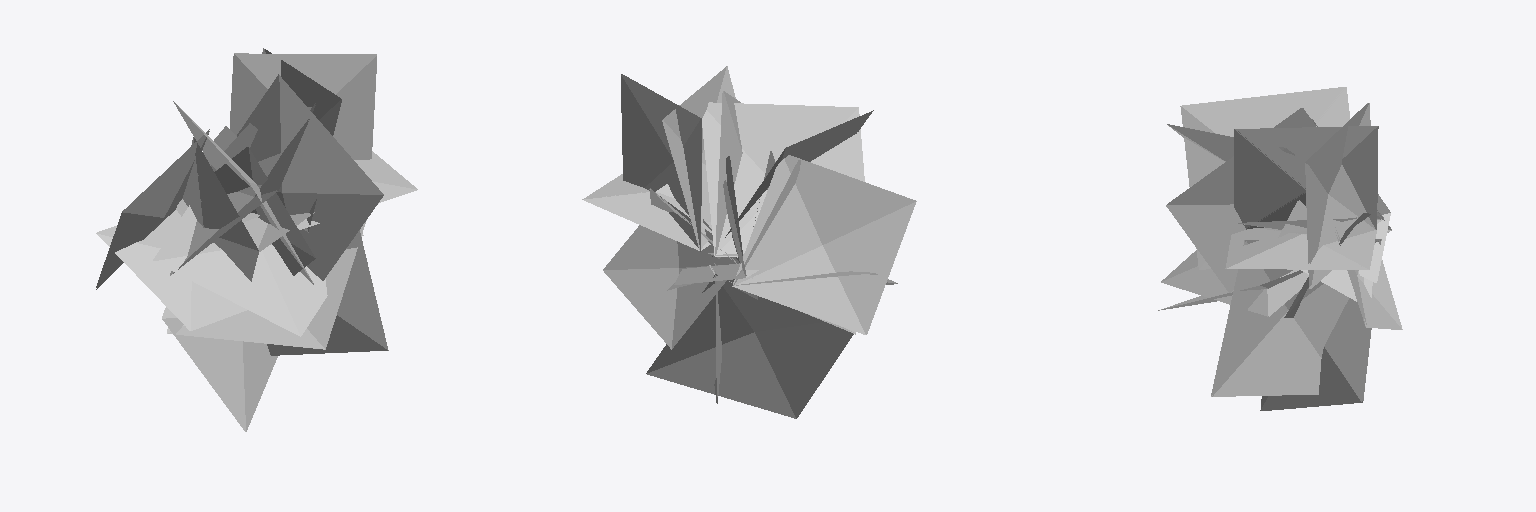
Rendered from huodong_fuben_421_rsshulin_shu11.obj.
3 views of the same model, side by side, from view 1: azimuth 30°, elevation 25°; view 2: azimuth 150°, elevation 25°; view 3: azimuth 270°, elevation 25° (orthographic).
Parts seen in each view (by area): view 1: huodong_fuben_421_rsshulin_shu11; view 2: huodong_fuben_421_rsshulin_shu11; view 3: huodong_fuben_421_rsshulin_shu11.
Part boxes in pixels (left/top/right/bottom): huodong_fuben_421_rsshulin_shu11: left=96, top=48, right=417, bottom=431; huodong_fuben_421_rsshulin_shu11: left=582, top=66, right=916, bottom=418; huodong_fuben_421_rsshulin_shu11: left=1158, top=87, right=1402, bottom=410.
Size of the model in its own units: 144 by 161 by 109.